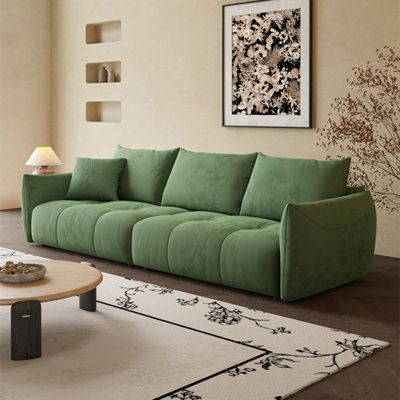3seatersofa: (22, 146, 374, 299)
backrest: (114, 146, 349, 219)
leftarmrest: (281, 192, 375, 299)
pillow: (67, 158, 124, 199)
rightarmrest: (22, 174, 71, 241)
seat: (32, 200, 278, 295)
